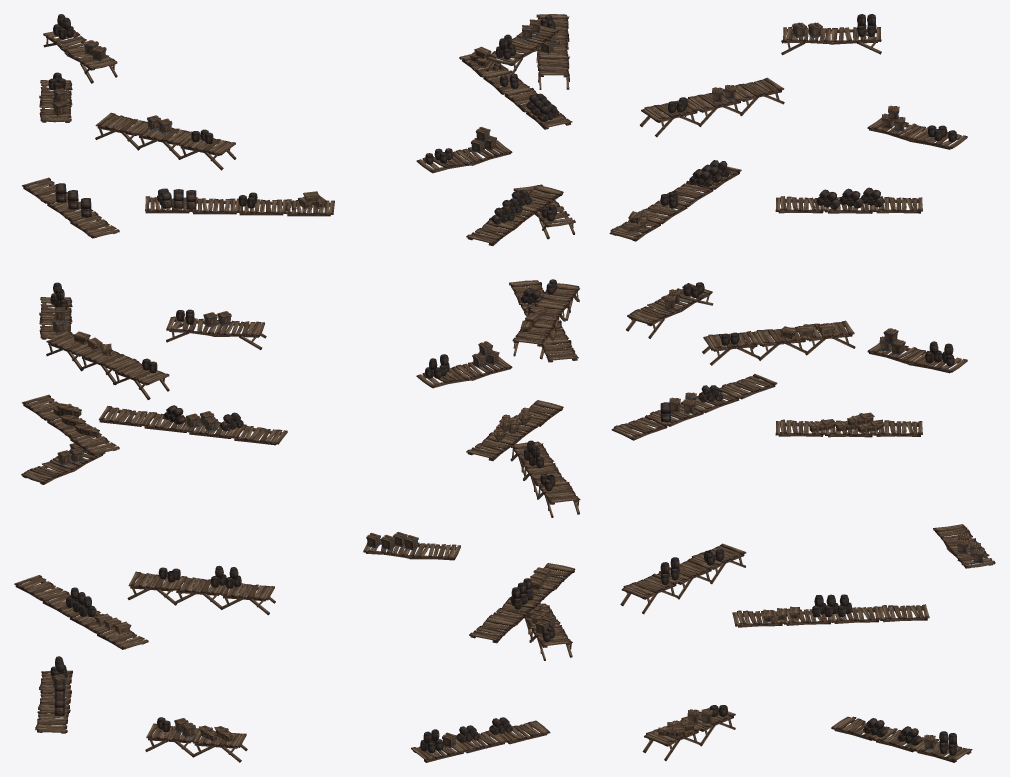
File: WallElevatorDecorations.gltf
3 renders of one model, left to right at view 1: azimuth 30°, elevation 25°; view 2: azimuth 150°, elevation 25°; view 3: azimuth 270°, elevation 25°, orthographic. The views are drawn at different scales.
Visible parts, largest first — view 1: P_PROP_woodbridge_dungeon_08 (1), P_PROP_woodbridge_dungeon_08, P_PROP_woodbridge_dungeon_10 (2), P_PROP_woodbridge_dungeon_07 (8), P_PROP_woodbridge_dungeon_07 (1), P_PROP_woodbridge_dungeon_07 (5), P_PROP_woodbridge_dungeon_07 (7), P_PROP_woodbridge_dungeon_10, P_PROP_woodbridge_dungeon_07 (2), P_PROP_woodbridge_dungeon_07 (6), P_PROP_woodbridge_dungeon_10 (1), P_PROP_woodbridge_dungeon_07 (3) (+16 smaller); view 2: P_PROP_woodbridge_dungeon_08, P_PROP_woodbridge_dungeon_10 (1), P_PROP_woodbridge_dungeon_10 (2), P_PROP_woodbridge_dungeon_10, P_PROP_woodbridge_dungeon_07 (1), P_PROP_woodbridge_dungeon_07 (7), P_PROP_woodbridge_dungeon_07 (4), P_PROP_woodbridge_dungeon_09 (17), P_PROP_woodbridge_dungeon_09 (6), P_PROP_woodbridge_dungeon_09 (13), P_PROP_woodbridge_dungeon_07 (5), P_PROP_woodbridge_dungeon_09 (18) (+16 smaller); view 3: P_PROP_woodbridge_dungeon_08, P_PROP_woodbridge_dungeon_08 (1), P_PROP_woodbridge_dungeon_10, P_PROP_woodbridge_dungeon_10 (1), P_PROP_woodbridge_dungeon_10 (2), P_PROP_woodbridge_dungeon_07 (8), P_PROP_woodbridge_dungeon_07 (1), P_PROP_woodbridge_dungeon_07 (5), P_PROP_woodbridge_dungeon_07 (2), P_PROP_woodbridge_dungeon_07 (3), P_PROP_woodbridge_dungeon_09 (7), P_PROP_woodbridge_dungeon_09 (17) (+10 smaller).
Part boxes in pixels (x1=…): P_PROP_woodbridge_dungeon_08 (1): x1=166, y1=316, x2=266, y2=349; P_PROP_woodbridge_dungeon_08: x1=43, y1=30, x2=117, y2=83; P_PROP_woodbridge_dungeon_10 (2): x1=21, y1=449, x2=105, y2=484; P_PROP_woodbridge_dungeon_07 (8): x1=220, y1=583, x2=275, y2=615; P_PROP_woodbridge_dungeon_07 (1): x1=95, y1=112, x2=147, y2=150; P_PROP_woodbridge_dungeon_07 (5): x1=113, y1=360, x2=169, y2=399; P_PROP_woodbridge_dungeon_07 (7): x1=127, y1=571, x2=181, y2=605; P_PROP_woodbridge_dungeon_10: x1=39, y1=80, x2=72, y2=122; P_PROP_woodbridge_dungeon_07 (2): x1=178, y1=135, x2=236, y2=170; P_PROP_woodbridge_dungeon_07 (6): x1=174, y1=576, x2=225, y2=609; P_PROP_woodbridge_dungeon_10 (1): x1=39, y1=297, x2=72, y2=339; P_PROP_woodbridge_dungeon_07 (3): x1=80, y1=346, x2=136, y2=385; P_PROP_woodbridge_dungeon_08: x1=486, y1=25, x2=559, y2=77; P_PROP_woodbridge_dungeon_10 (1): x1=416, y1=356, x2=512, y2=388; P_PROP_woodbridge_dungeon_10 (2): x1=363, y1=539, x2=460, y2=560; P_PROP_woodbridge_dungeon_10: x1=416, y1=140, x2=512, y2=173; P_PROP_woodbridge_dungeon_07 (1): x1=537, y1=54, x2=569, y2=89; P_PROP_woodbridge_dungeon_07 (7): x1=536, y1=480, x2=580, y2=517; P_PROP_woodbridge_dungeon_07 (4): x1=512, y1=322, x2=554, y2=359; P_PROP_woodbridge_dungeon_09 (17): x1=469, y1=617, x2=516, y2=643; P_PROP_woodbridge_dungeon_09 (6): x1=466, y1=219, x2=515, y2=245; P_PROP_woodbridge_dungeon_09 (13): x1=466, y1=435, x2=515, y2=461; P_PROP_woodbridge_dungeon_07 (5): x1=538, y1=283, x2=579, y2=320; P_PROP_woodbridge_dungeon_09 (18): x1=499, y1=720, x2=550, y2=744; P_PROP_woodbridge_dungeon_08: x1=781, y1=26, x2=881, y2=55; P_PROP_woodbridge_dungeon_08 (1): x1=626, y1=283, x2=713, y2=338; P_PROP_woodbridge_dungeon_10: x1=867, y1=117, x2=967, y2=149; P_PROP_woodbridge_dungeon_10 (1): x1=867, y1=342, x2=967, y2=373; P_PROP_woodbridge_dungeon_10 (2): x1=933, y1=524, x2=995, y2=568; P_PROP_woodbridge_dungeon_07 (8): x1=620, y1=573, x2=677, y2=614; P_PROP_woodbridge_dungeon_07 (1): x1=735, y1=77, x2=784, y2=116; P_PROP_woodbridge_dungeon_07 (5): x1=702, y1=331, x2=759, y2=365; P_PROP_woodbridge_dungeon_07 (2): x1=640, y1=100, x2=699, y2=137; P_PROP_woodbridge_dungeon_07 (3): x1=752, y1=326, x2=807, y2=360; P_PROP_woodbridge_dungeon_09 (7): x1=611, y1=415, x2=668, y2=440; P_PROP_woodbridge_dungeon_09 (17): x1=877, y1=604, x2=929, y2=622.
Size of the model in its own units: 19.06 by 65.6 by 31.73.
4 materials, 4 textured.
